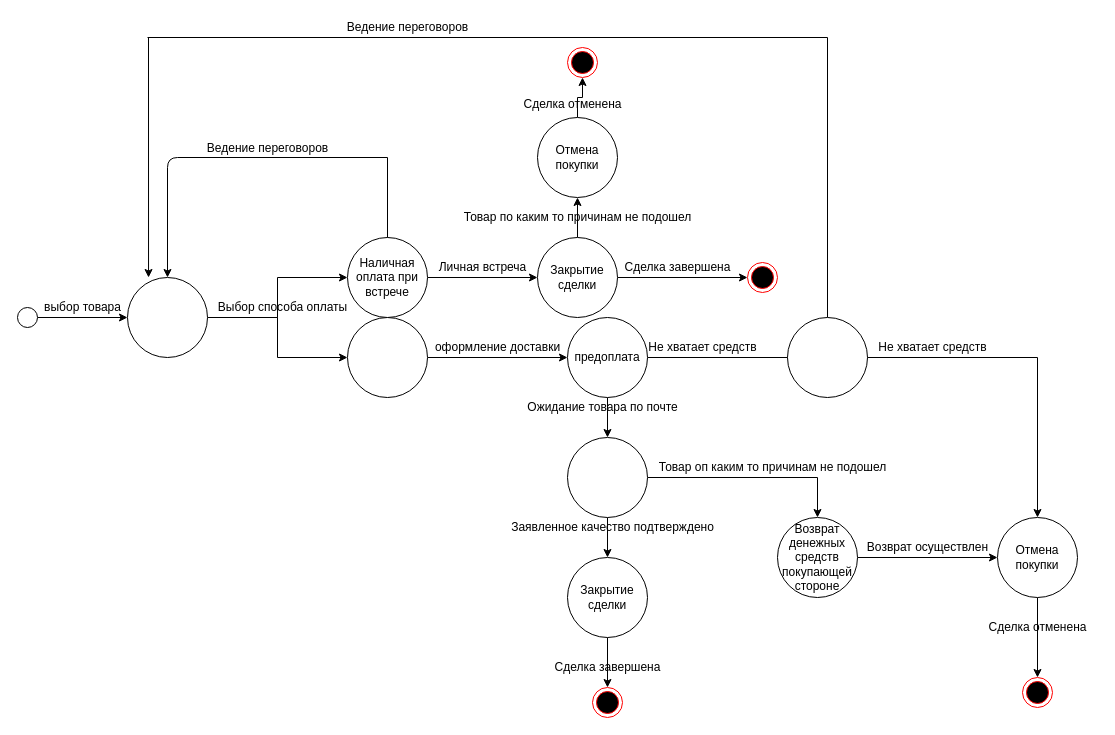
Image size: 1115x735. Some labels were removed from this diagram. Each missing label, with the centre of its shape:
Безналичная оплата и доставка "Новой почтой": (387,357)
Подтверждение заявленному качеству: (607,477)
Проверьте данные карты или свяжитесь с продавцом: (827,357)
Прямой контакт с продавцом: (167,317)
